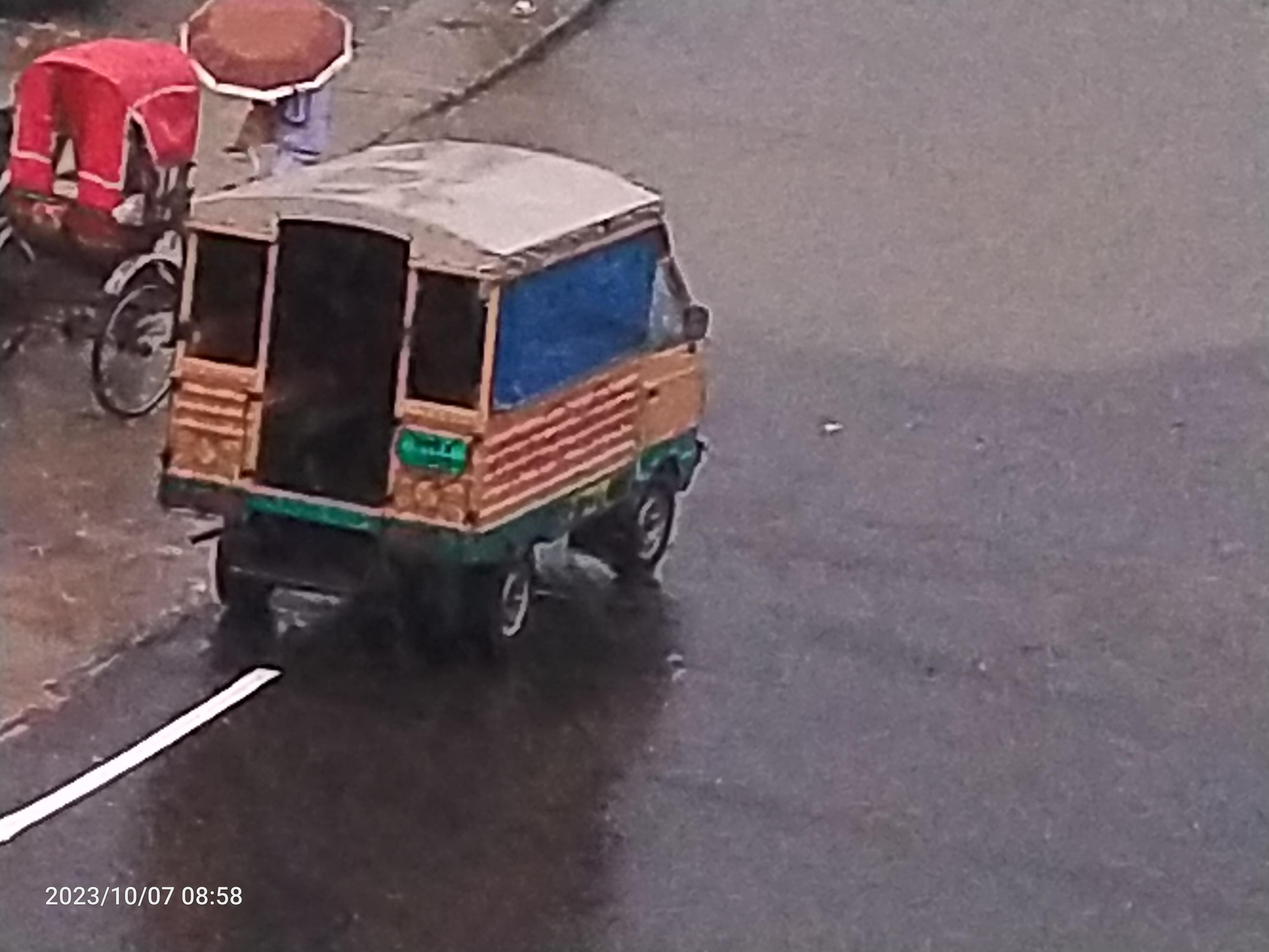Car: (128, 113, 786, 658), (0, 25, 239, 491)
